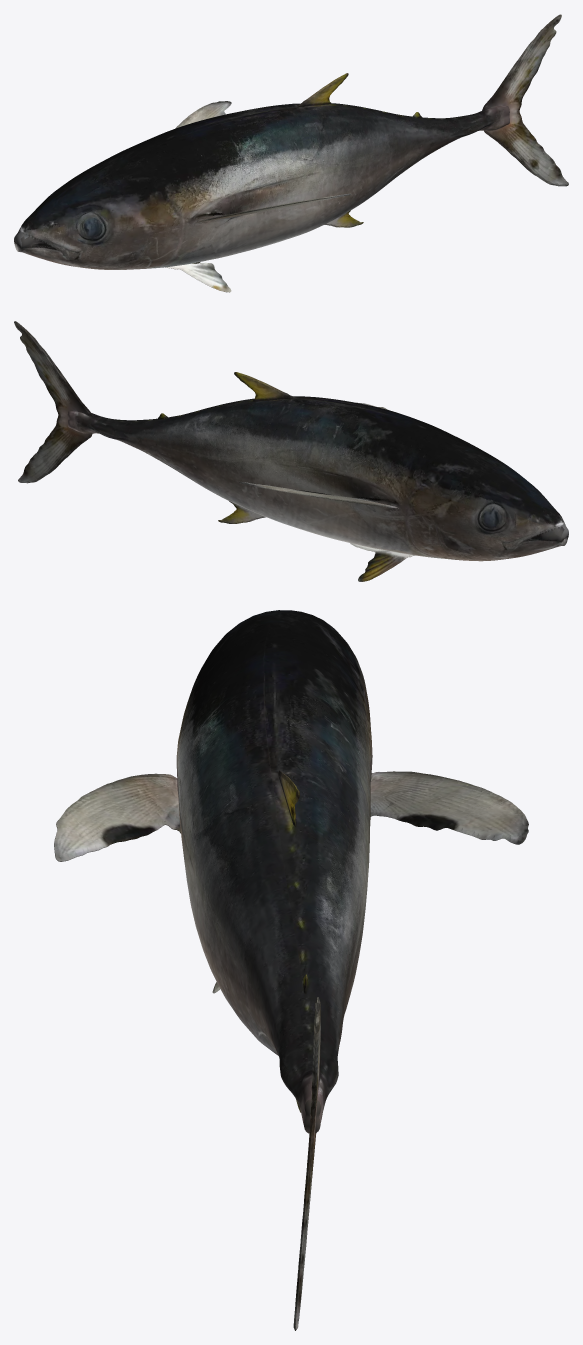
File: tuna.glb
3 views of the same model, one above another, from view 1: azimuth 30°, elevation 25°; view 2: azimuth 150°, elevation 25°; view 3: azimuth 270°, elevation 25° (orthographic). The views are drawn at different scales.
Visible parts, largest first — view 1: TUNA; view 2: TUNA; view 3: TUNA.
Part boxes in pixels (bbox=[...]): TUNA: bbox=[14, 14, 568, 292]; TUNA: bbox=[14, 321, 568, 581]; TUNA: bbox=[54, 610, 528, 1330].
Bounding box in the file's own units: 1.19 × 0.3525 × 0.4477.
1 material, 1 textured.
